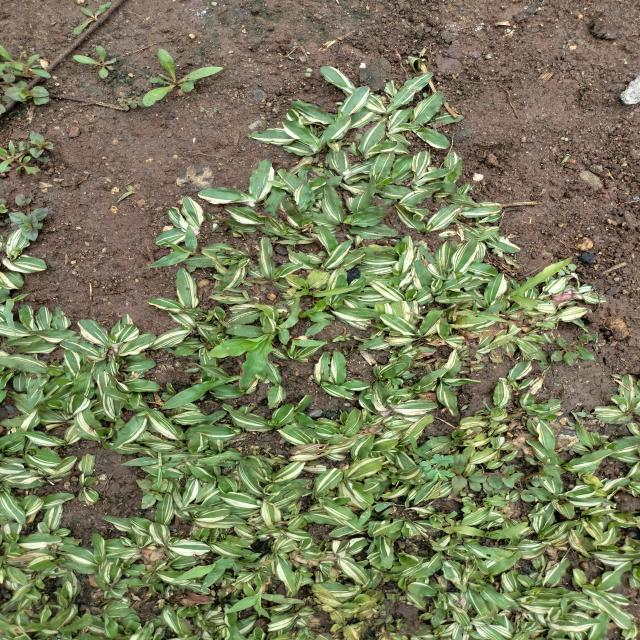buah daun: (418, 454, 456, 483)
gingseng jawa: (140, 46, 224, 108), (0, 41, 54, 80), (552, 332, 601, 365), (71, 2, 115, 38), (73, 45, 118, 80), (523, 454, 565, 480)
rambat atas: (170, 556, 245, 593), (147, 221, 200, 269), (118, 452, 171, 493), (223, 584, 271, 620), (4, 291, 32, 342), (288, 335, 328, 355)
rambat bawah: (205, 330, 282, 392), (159, 361, 244, 411), (443, 520, 530, 540)
tunggang tengah: (114, 92, 146, 113)
ungu tunggang: (468, 464, 538, 504), (0, 192, 51, 244), (0, 70, 54, 106), (16, 133, 55, 166), (133, 476, 172, 509)
